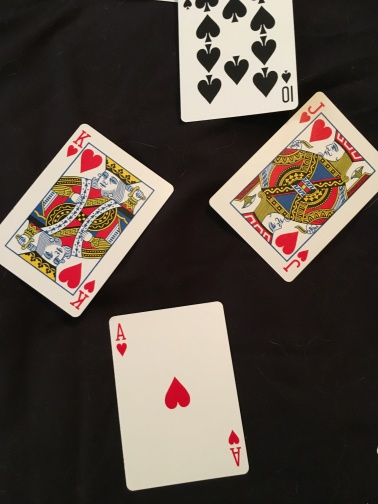ace: (108, 300, 251, 490)
jack: (208, 98, 378, 282)
king: (1, 120, 175, 321)
ten: (176, 1, 304, 114)
